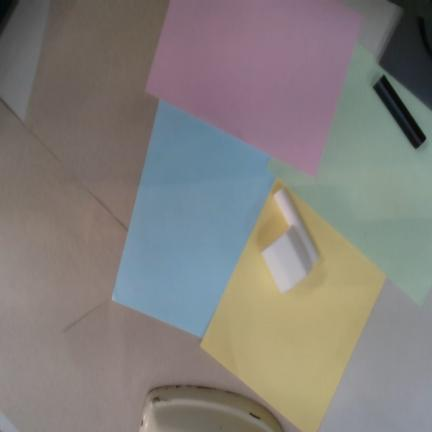Cilindro: (372, 74, 427, 149), (273, 187, 318, 263)
Prisma_hexagonal: (261, 223, 313, 295)
